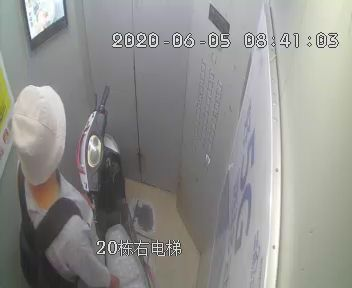Electric-bicycle: (77, 85, 154, 287)
